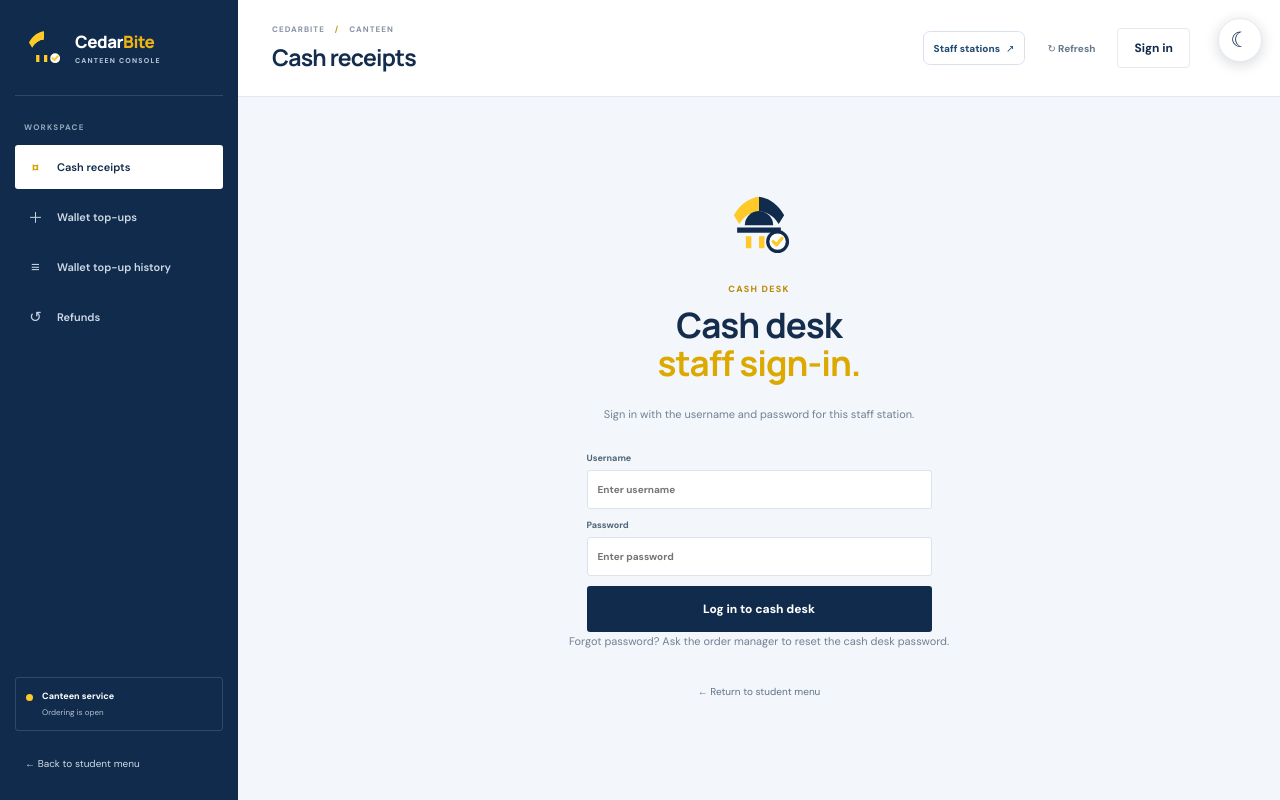
Test: cash desk and order workflow actions › opens the cash desk after the server confirms that station login
Type "cashdesk" into the field with placeholder "Enter username" at (759, 489), box x1=586 y1=470 x2=932 y2=508
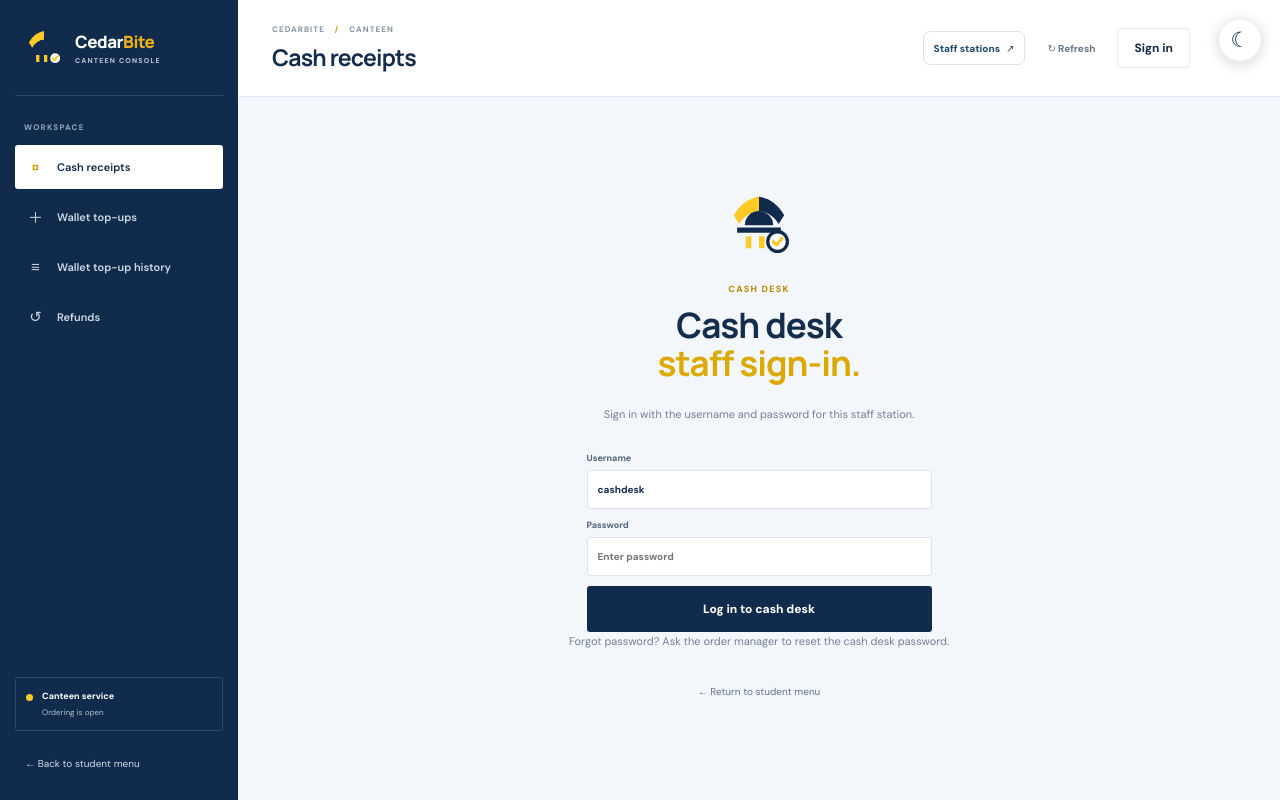
Type "cashdesk-password" into the password field with placeholder "Enter password" at (759, 556), box x1=586 y1=536 x2=932 y2=576
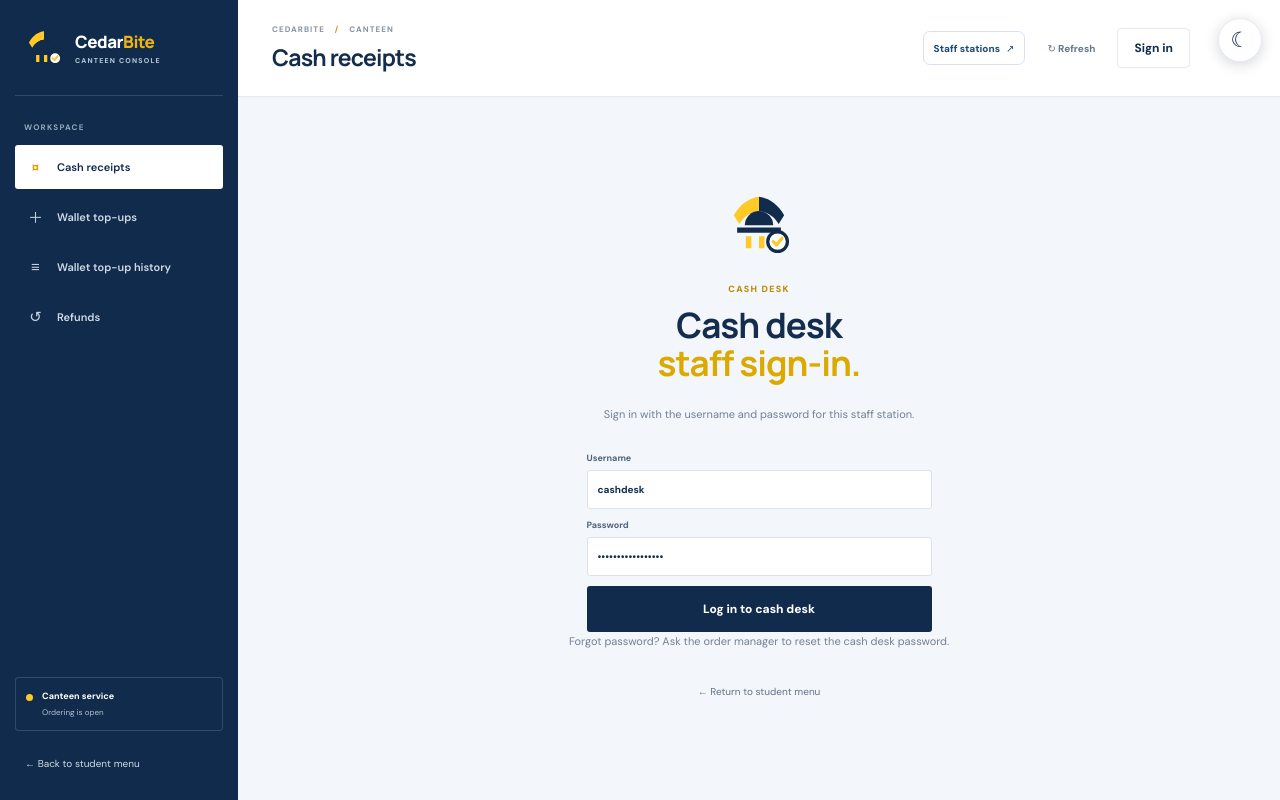
Click the button "Log in to cash desk" at (759, 608), box x1=586 y1=586 x2=932 y2=632
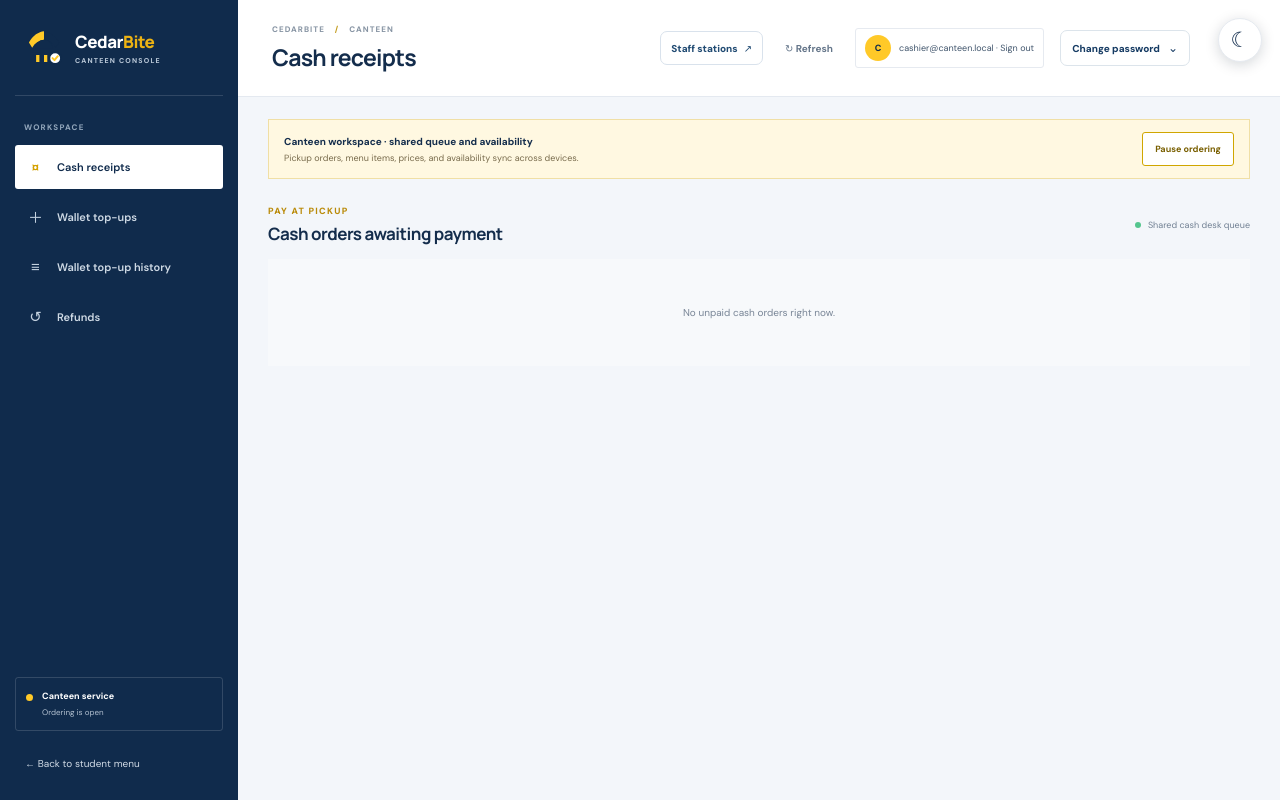
Now the text "Canteen workspace · shared queue and availability" is shown, box x1=284 y1=134 x2=533 y2=148
